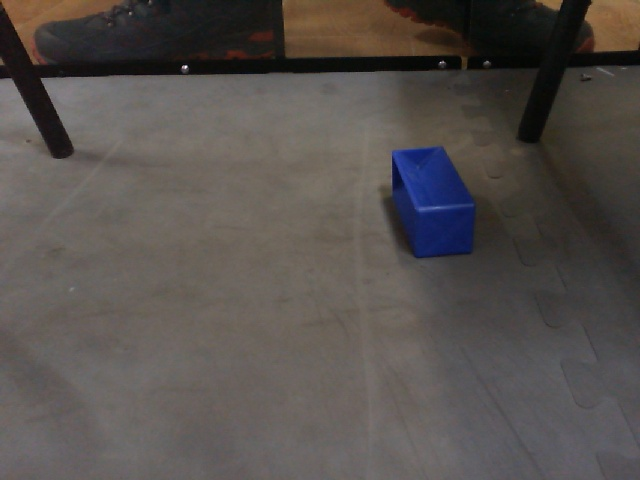BlueSample: (385, 142, 483, 264)
